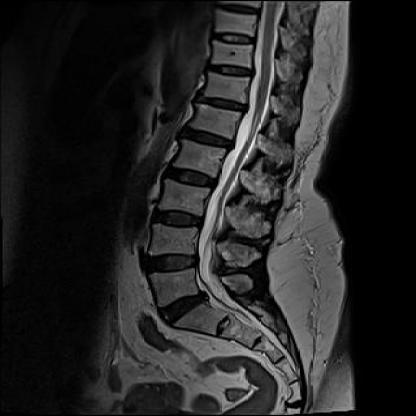Disc Bulgerotation: (154, 291, 215, 323)
Disc Relaxationrotation: (136, 243, 203, 275), (160, 166, 223, 193), (149, 204, 206, 231)
